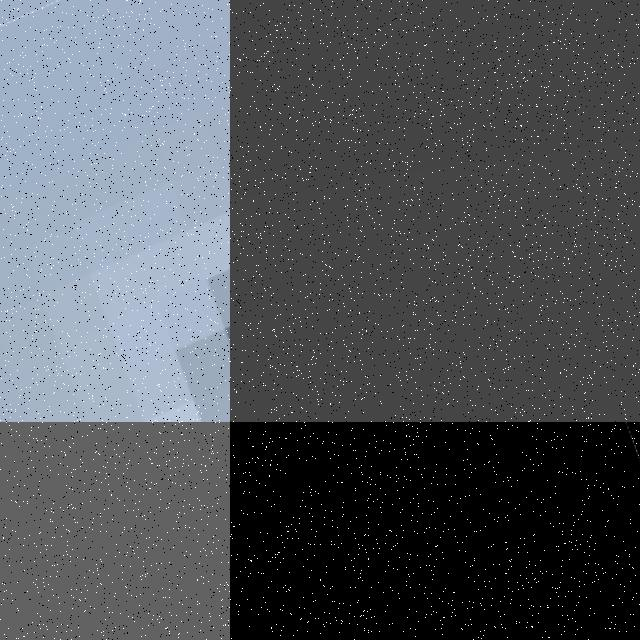drone: (0, 0, 230, 422), (230, 422, 640, 640)
